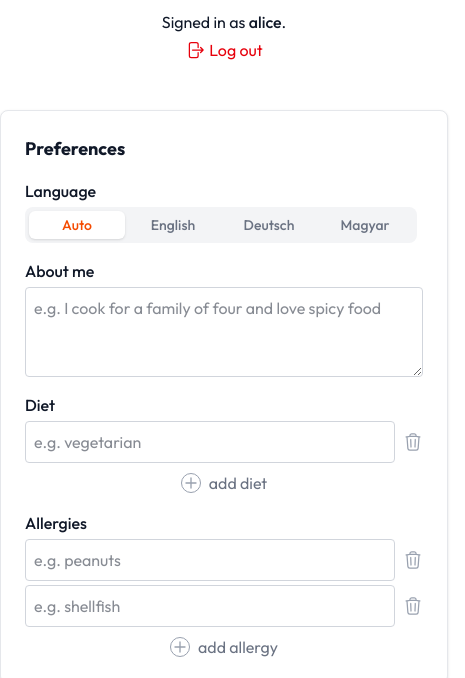
Test case: ProfilePage › taste-preferences autosave › reports an unreachable server in plain language
In the text box labelled "About me": {"x": 224, "y": 332} left=25, top=287, right=423, bottom=377, type "spicy"
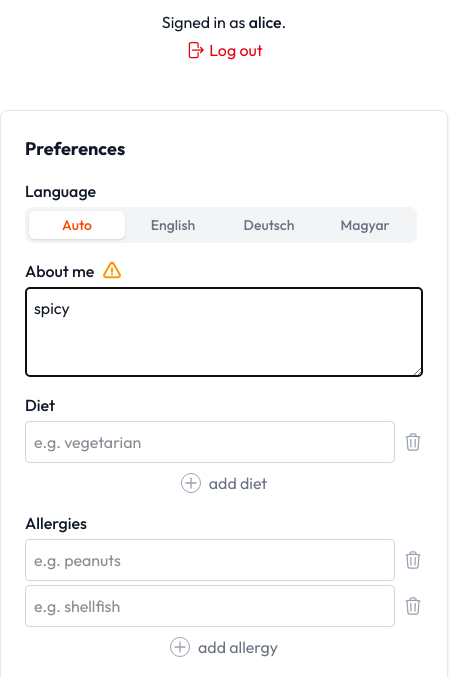
Expected: the icon with test id "save-error" is shown, left=102, top=261, right=122, bottom=281
